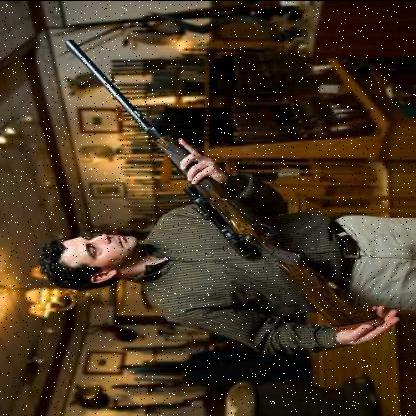rifle: (45, 35, 382, 331)
